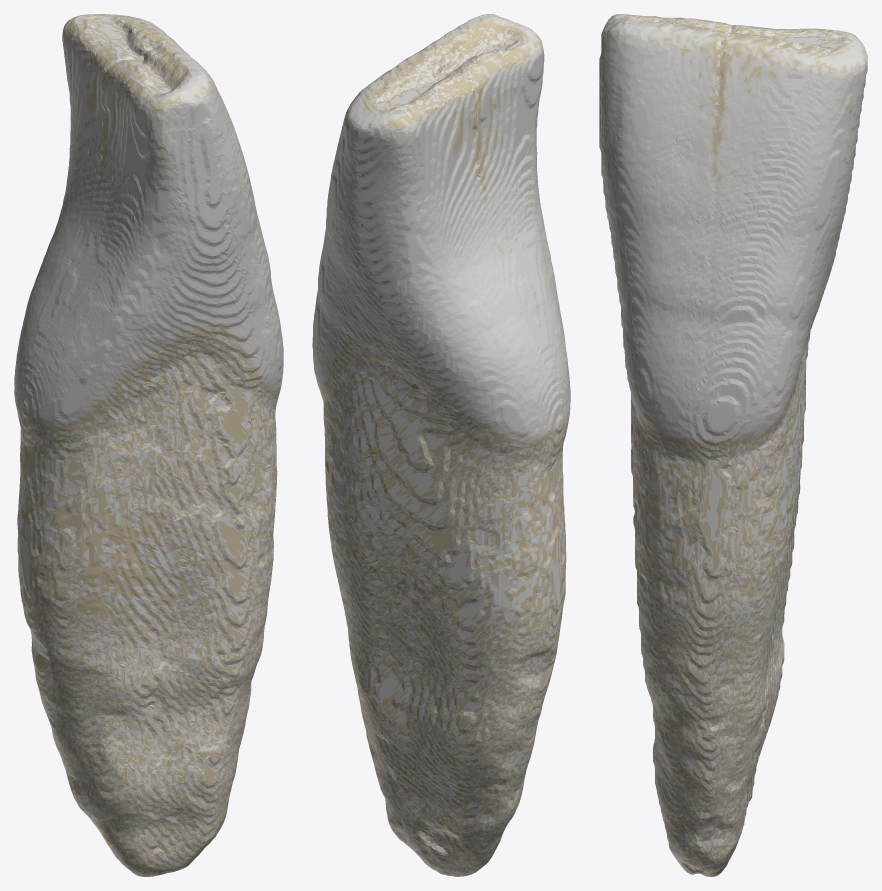
Rendered from scan2.glb.
3 renders of one model, left to right at view 1: azimuth 30°, elevation 25°; view 2: azimuth 150°, elevation 25°; view 3: azimuth 270°, elevation 25°, orthographic. The views are drawn at different scales.
Parts seen in each view (by area): view 1: externe, dentine; view 2: externe, dentine; view 3: externe, dentine.
Boxes of the visible parts, x1,y1,x2,y2 form: externe: (14,14,283,876); dentine: (16,14,278,876); externe: (312,14,570,876); dentine: (321,19,567,876); externe: (599,14,867,876); dentine: (629,15,849,876).
Bounding box in the file's own units: 0.00572 × 0.0189 × 0.0054.
